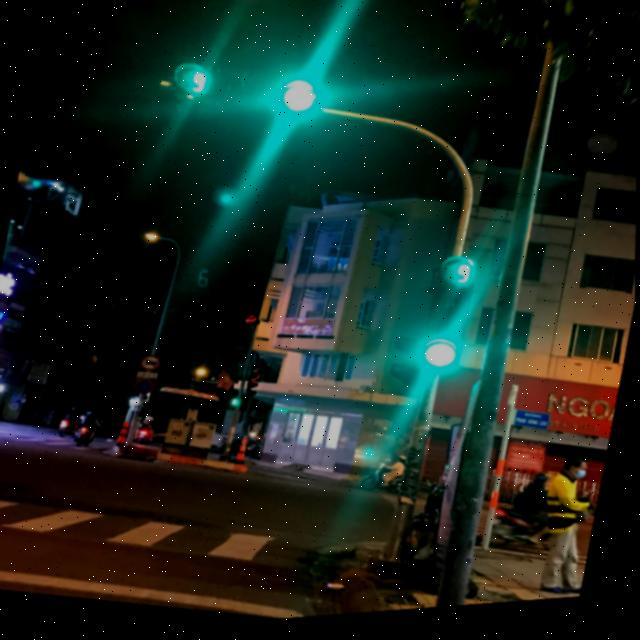Green: (208, 55, 323, 133), (413, 293, 477, 384)
